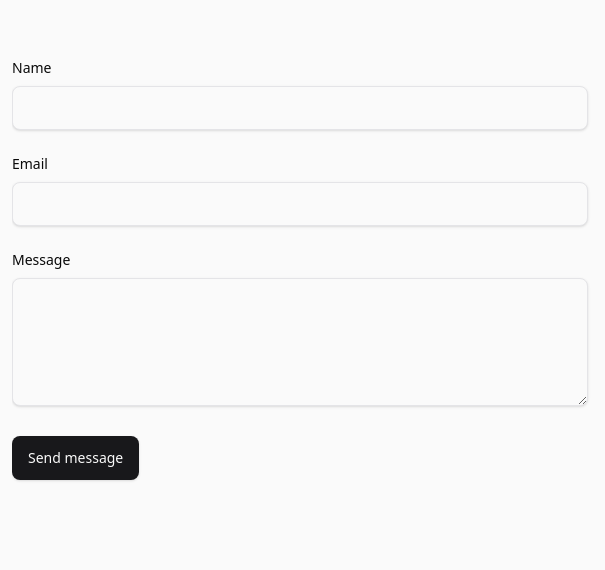
it: ContactForm › associates validation errors with fields after submit
Click the button "Send message".
click(76, 458)  # box left=12, top=436, right=139, bottom=480
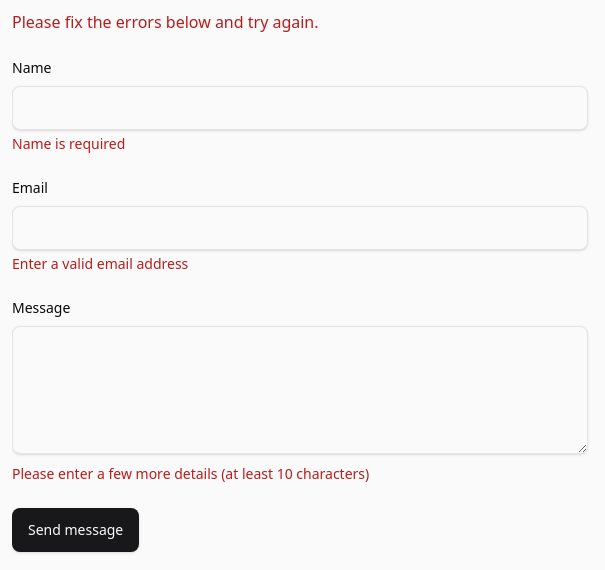
Expected: the text "Name is required" is shown, left=12, top=134, right=125, bottom=153
